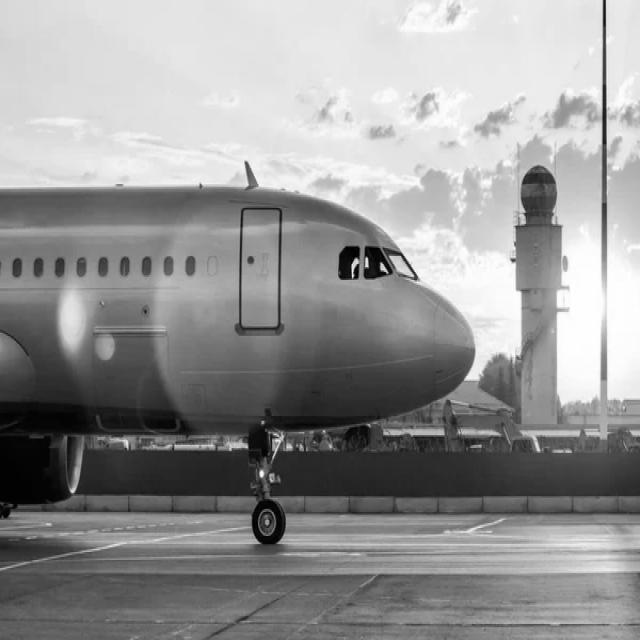Aircraft: (0, 162, 491, 550)
